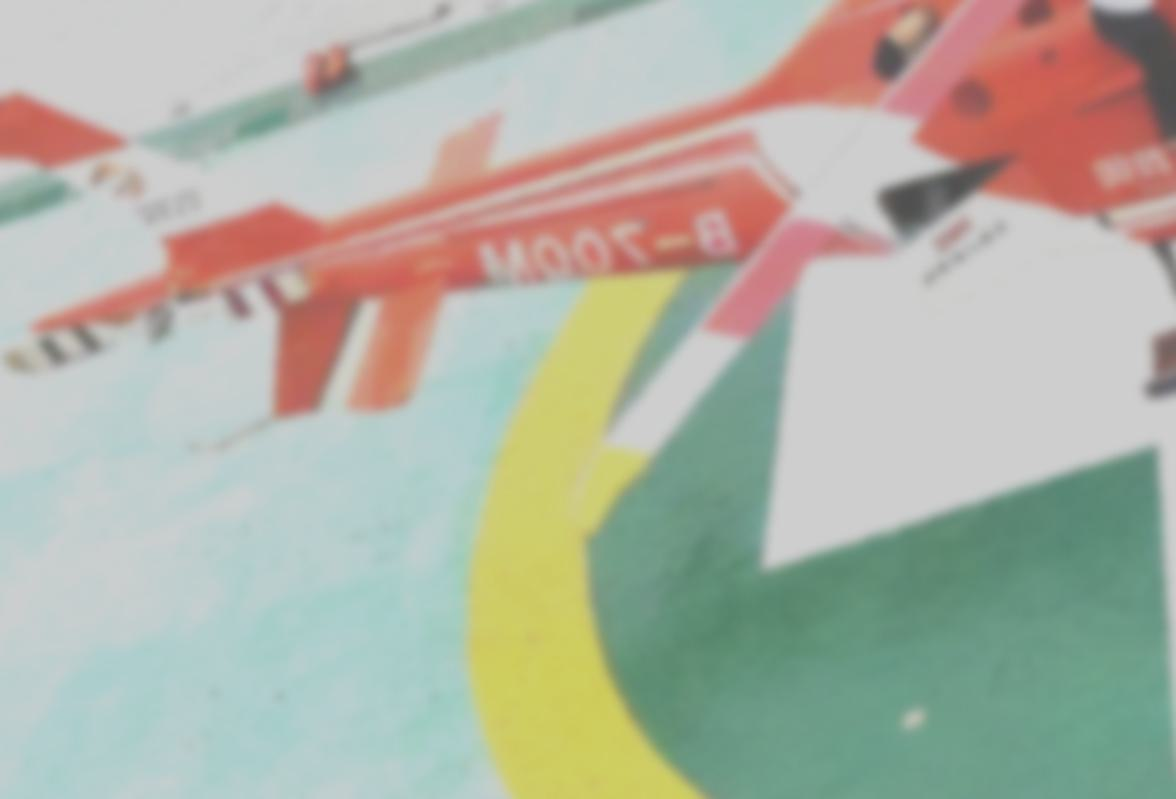Apron: (464, 144, 1176, 799)
